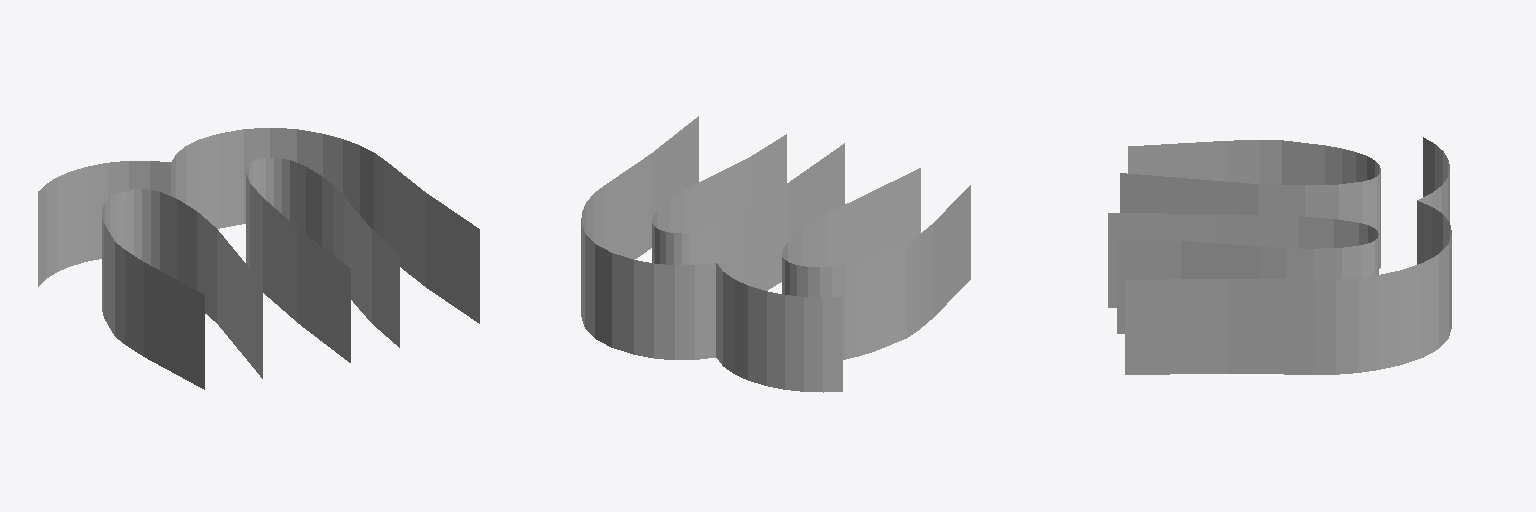
The model's file is m1_chrome.obj.
3 views of the same model, side by side, from view 1: azimuth 30°, elevation 25°; view 2: azimuth 150°, elevation 25°; view 3: azimuth 270°, elevation 25° (orthographic).
Size of the model in its own units: 0.8078 by 0.25 by 0.8201.